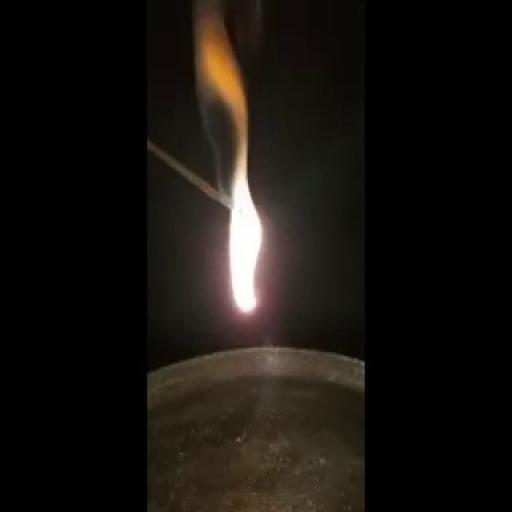smoke: (209, 80, 274, 310)
